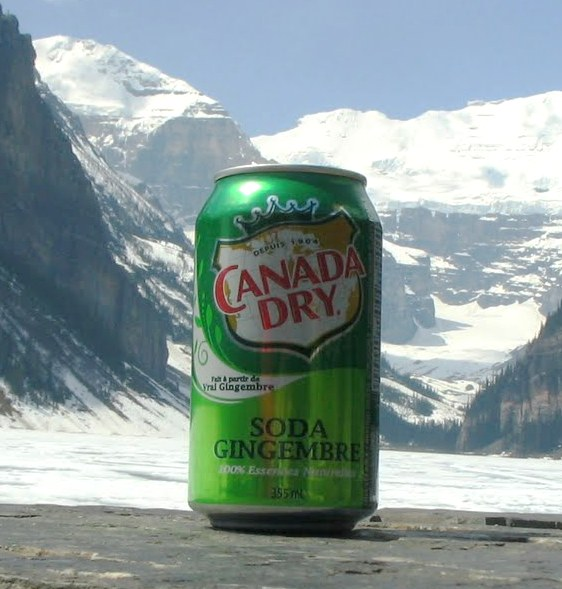Lata: (186, 156, 385, 538)
